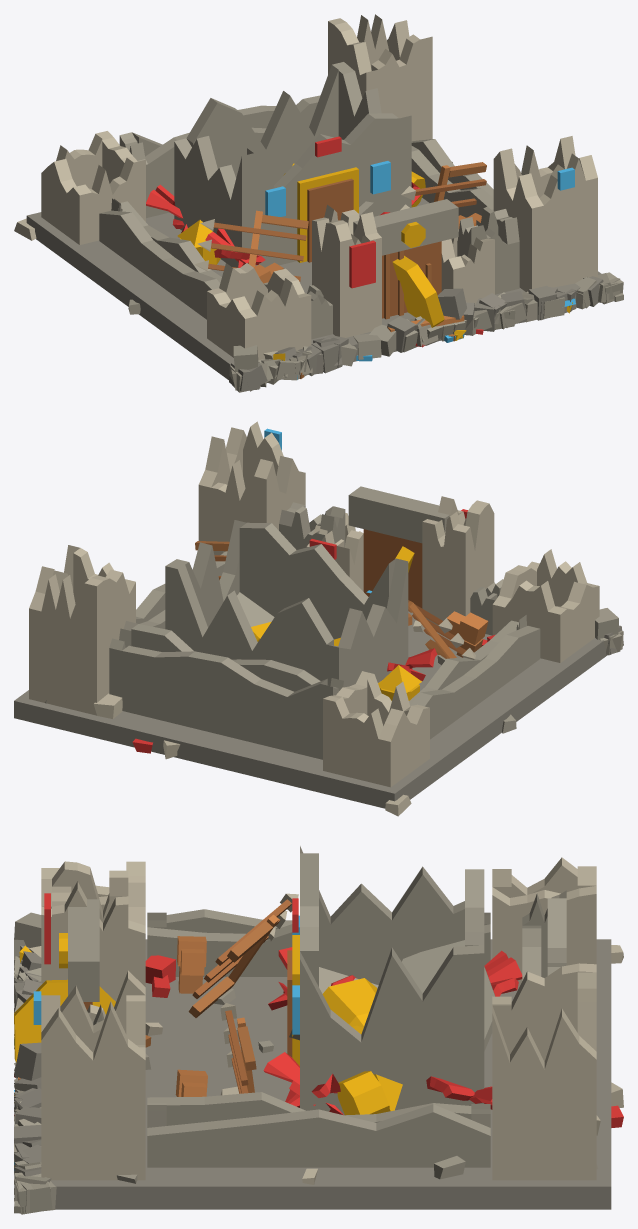
File: castle_v2_dmg2.glb
3 views of the same model, one above another, from view 1: azimuth 30°, elevation 25°; view 2: azimuth 150°, elevation 25°; view 3: azimuth 270°, elevation 25° (orthographic). The views are drawn at different scales.
Parts seen in each view (by area): view 1: castle_v2_dmg2; view 2: castle_v2_dmg2; view 3: castle_v2_dmg2.
Part boxes in pixels (x1=…): castle_v2_dmg2: x1=14, y1=14, x2=623, y2=392; castle_v2_dmg2: x1=14, y1=421, x2=623, y2=816; castle_v2_dmg2: x1=14, y1=846, x2=623, y2=1214.
Bounding box in the file's own units: 0.96 × 0.3401 × 0.96.
1 material, 1 textured.
